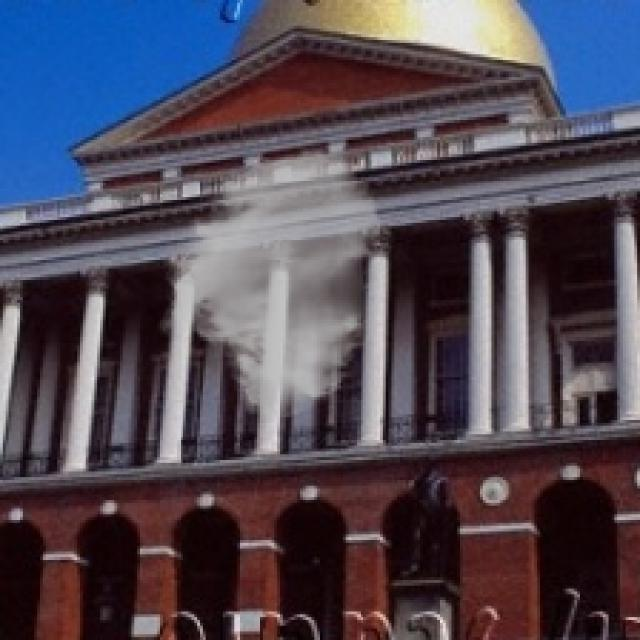Smoke: (157, 143, 383, 420)
